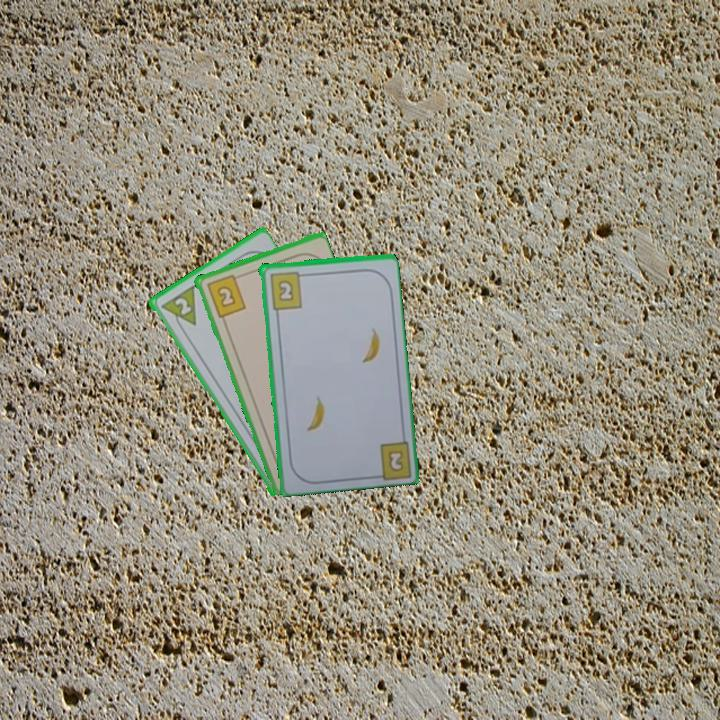2b: (203, 271, 248, 320), (266, 268, 308, 312), (384, 446, 407, 475)
2p: (171, 294, 194, 318)
